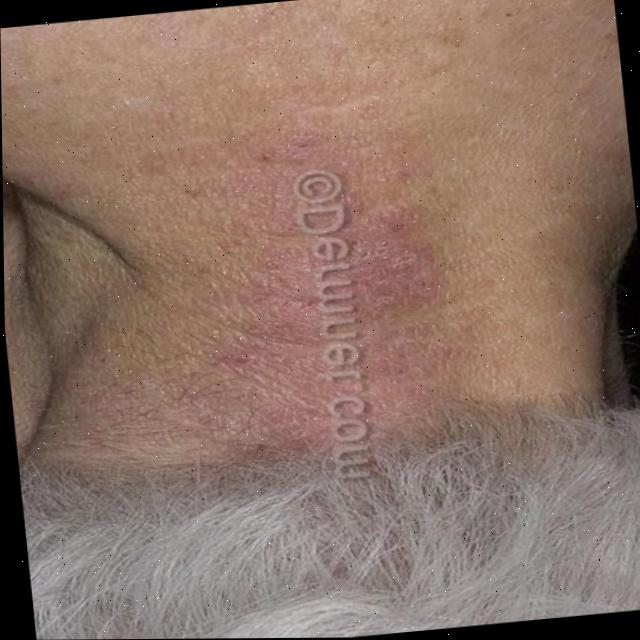Eczema: (126, 98, 464, 454)
